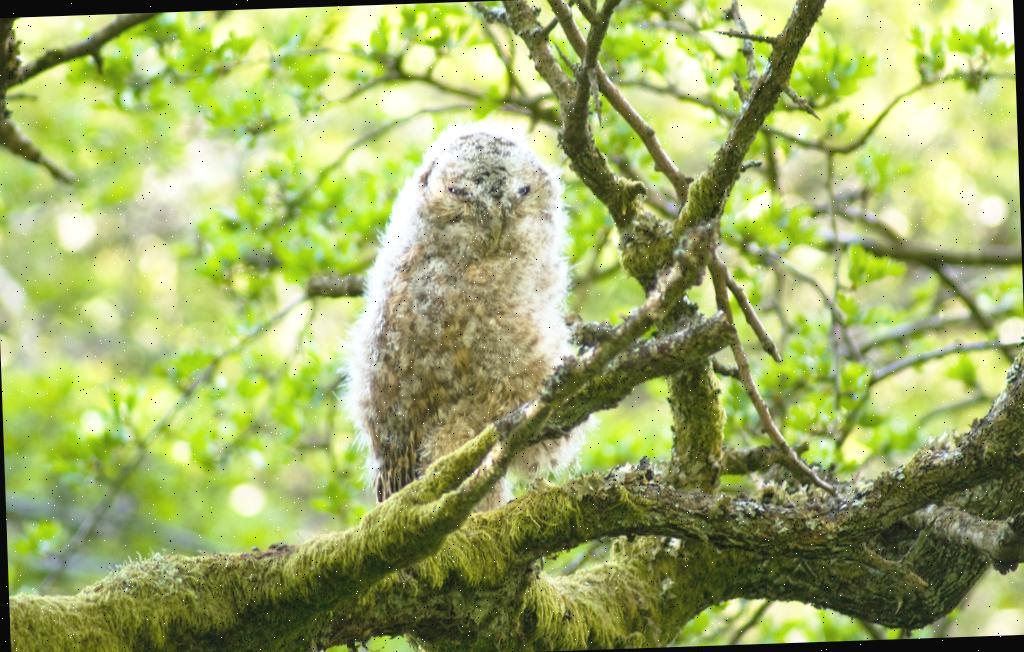Owl: (337, 106, 604, 546)
